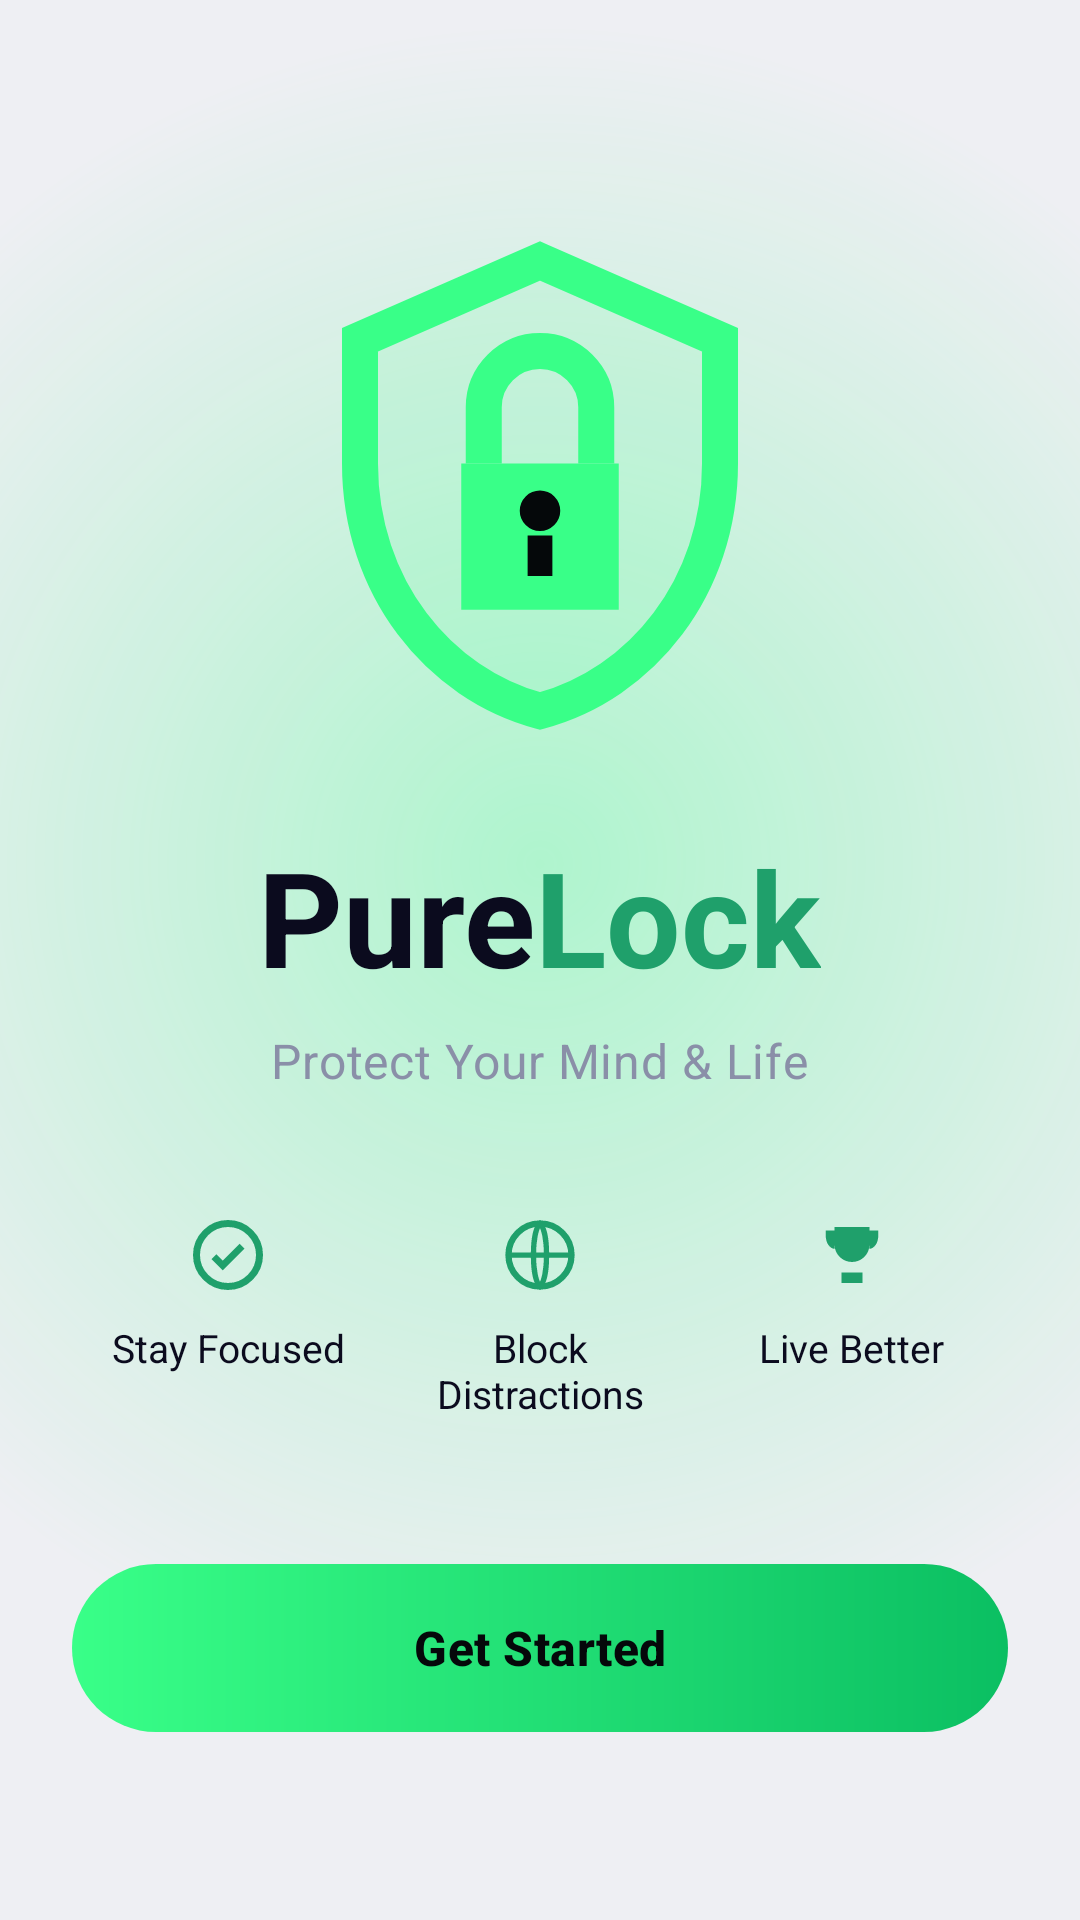

Locate icon controls on the screen. Image size 1080×1920, boxes as (x1, y1, x2, y2).
check circle: (193, 1220, 263, 1290)
globe: (505, 1220, 575, 1290)
trophy: (825, 1227, 879, 1283)
